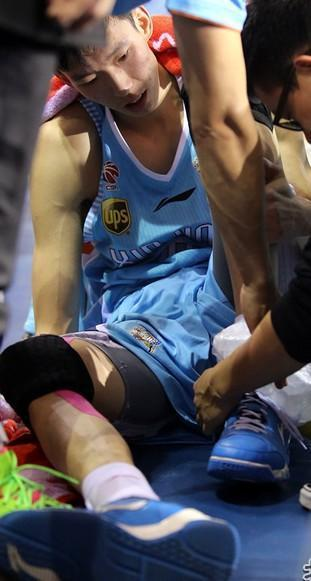Fall-Detected: (1, 0, 306, 577)
